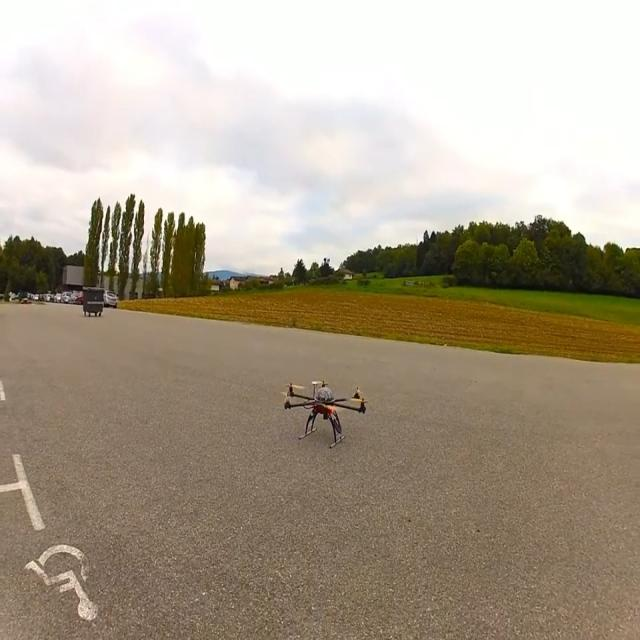drone: (280, 379, 368, 449)
